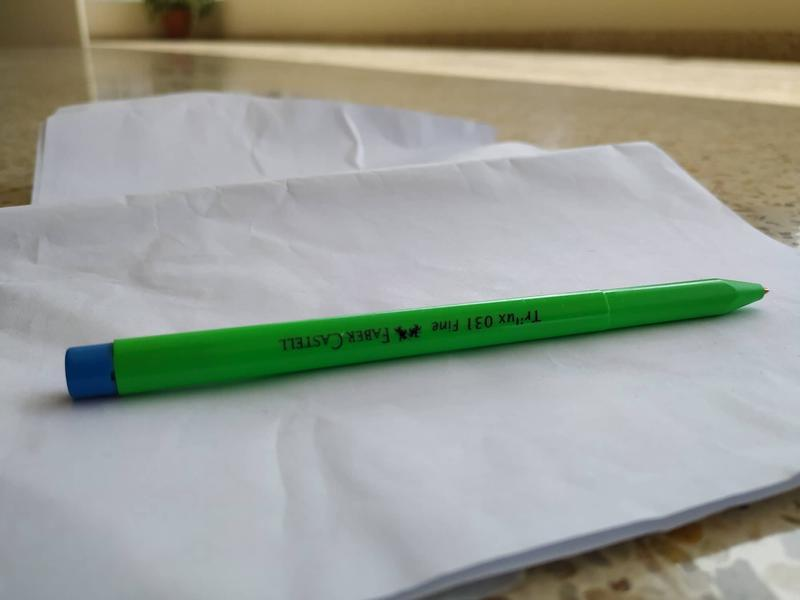qillqana: (57, 273, 775, 405)
